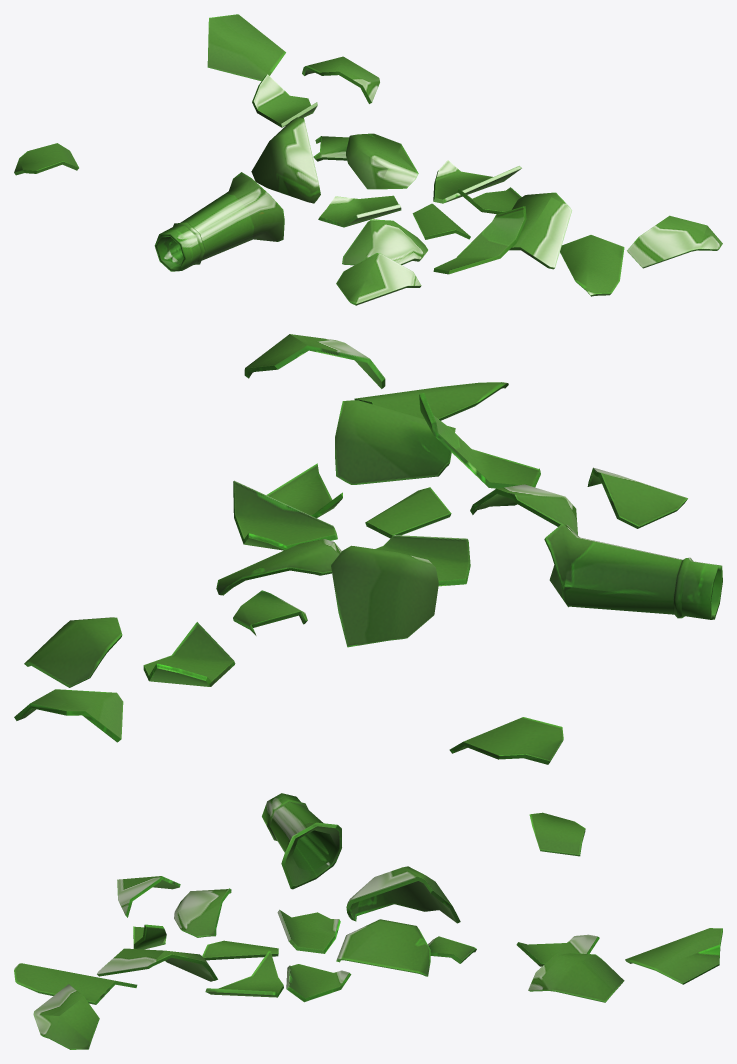
The model's file is trash_glassbottle 1.fbx.
3 renders of one model, top to bottom at view 1: azimuth 30°, elevation 25°; view 2: azimuth 150°, elevation 25°; view 3: azimuth 270°, elevation 25°, orthographic. The views are drawn at different scales.
Visible parts, largest first — view 1: Line008; view 2: Line008; view 3: Line008.
Boxes of the visible parts, <box> form: Line008: <box>14,14,722,305</box>; Line008: <box>14,334,722,764</box>; Line008: <box>14,793,722,1049</box>.
Bounding box in the file's own units: 62.98 × 83.36 × 7.7.
